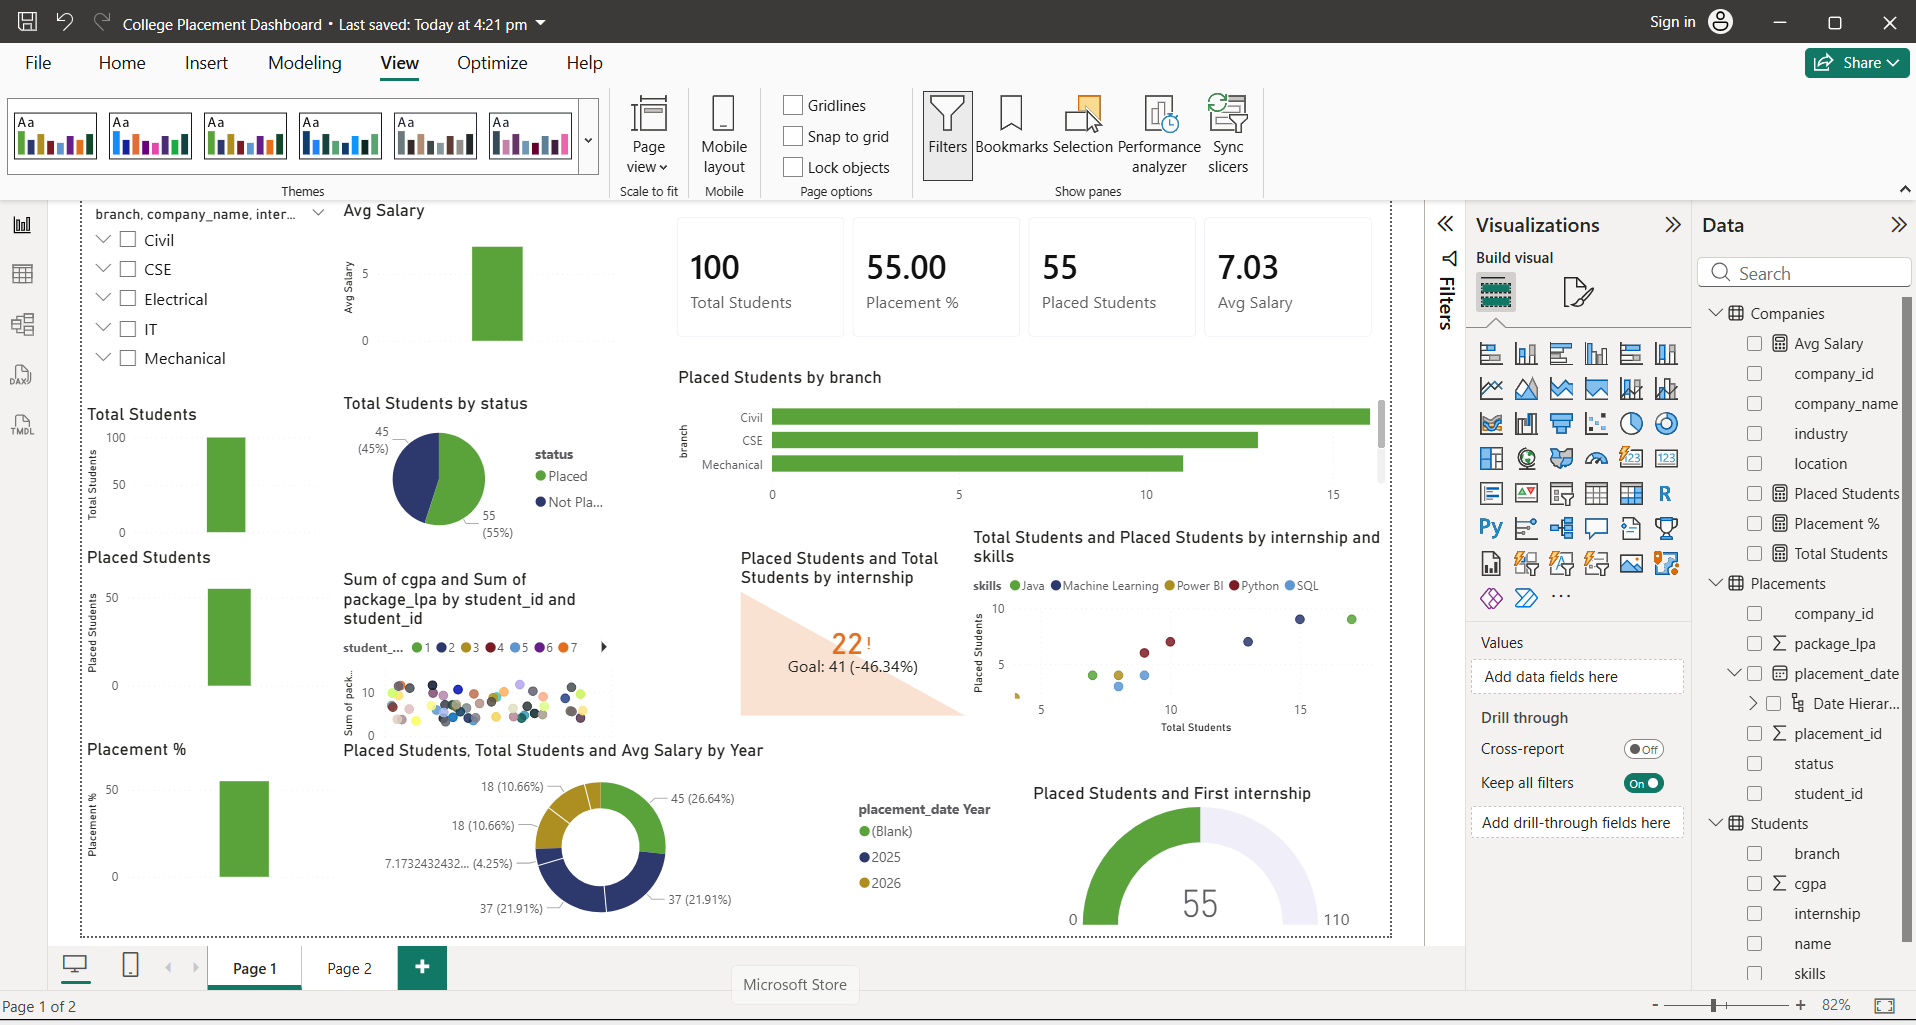

The dashboard page shown, as its layout file describes it:
{"tool":"powerbi","page":{"name":"Page 1","canvas":[1280,720],"ordinal":0},"visuals":[{"type":"columnChart","fields":{"Y":["Companies.Total Students"]},"box":[0,199,236.7,139.9],"z":0},{"type":"clusteredColumnChart","fields":{"Y":["Companies.Placed Students"]},"box":[0,338.9,250.1,150.6],"z":1000},{"type":"clusteredColumnChart","fields":{"Y":["Companies.Placement %"]},"box":[0,527.2,279.7,149.3],"z":2000},{"type":"clusteredColumnChart","fields":{"Y":["Companies.Avg Salary"]},"box":[250.1,0,279.7,152],"z":3000},{"type":"cardVisual","fields":{"Data":["Companies.Total Students","Companies.Placement %","Companies.Placed Students","Companies.Avg Salary"]},"box":[565.2,0,715.2,151.5],"z":4000},{"type":"clusteredBarChart","fields":{"Category":["Students.branch"],"Y":["Companies.Placed Students"]},"box":[578.4,162.9,701.9,143.9],"z":5000},{"type":"pieChart","fields":{"Category":["Placements.status"],"Y":["Companies.Total Students"]},"box":[250.1,188.3,278.4,150.6],"z":6000},{"type":"scatterChart","fields":{"X":["Sum(Students.cgpa)"],"Y":["Sum(Placements.package_lpa)"],"Category":["Students.student_id"],"Series":["Placements.student_id"]},"box":[250.1,360.4,279.7,193.7],"z":7000},{"type":"slicer","fields":{"Values":["Students.branch","Companies.company_name","Students.internship"]},"box":[0,0,250.1,178.9],"z":8000},{"type":"gauge","fields":{"Y":["Companies.Placed Students"]},"box":[925.9,570.2,354.3,149.3],"z":8001},{"type":"donutChart","fields":{"Y":["Companies.Placed Students","Companies.Total Students","Companies.Avg Salary"],"Category":["Placements.placement_date.Variation.Date Hierarchy.Year","Placements.placement_date.Variation.Date Hierarchy.Quarter","Placements.placement_date.Variation.Date Hierarchy.Month","Placements.placement_date.Variation.Date Hierarchy.Day","Placements.status","Students.branch"]},"box":[250.1,528.5,657.6,191],"z":8002},{"type":"kpi","fields":{"Indicator":["Companies.Placed Students"],"Goal":["Companies.Total Students"],"TrendLine":["Students.internship"]},"box":[639.5,339.4,229.4,169.7],"z":8003},{"type":"scatterChart","fields":{"X":["Companies.Total Students"],"Category":["Students.internship"],"Series":["Students.skills"],"Y":["Companies.Placed Students"]},"box":[867.5,319.1,412.7,207.7],"z":8004}]}

Visuals, with their boxes on the page's 1280x720 design canvas (x1, y1, x2, y2). These are canvas units, not pixel positions in the 1916x1025 screenshot, which may show the page scaled, cropped or inside an application window:
columnChart - Companies.Total Students: rect(0, 199, 237, 339)
clusteredColumnChart - Companies.Placed Students: rect(0, 339, 250, 490)
clusteredColumnChart - Companies.Placement %: rect(0, 527, 280, 676)
clusteredColumnChart - Companies.Avg Salary: rect(250, 0, 530, 152)
cardVisual - Companies.Total Students x Companies.Placement %: rect(565, 0, 1280, 152)
clusteredBarChart - Students.branch x Companies.Placed Students: rect(578, 163, 1280, 307)
pieChart - Placements.status x Companies.Total Students: rect(250, 188, 528, 339)
scatterChart - Sum(Students.cgpa) x Sum(Placements.package_lpa): rect(250, 360, 530, 554)
slicer - Students.branch x Companies.company_name: rect(0, 0, 250, 179)
gauge - Companies.Placed Students: rect(926, 570, 1280, 720)
donutChart - Companies.Placed Students x Companies.Total Students: rect(250, 528, 908, 720)
kpi - Companies.Placed Students x Companies.Total Students: rect(640, 339, 869, 509)
scatterChart - Companies.Total Students x Students.internship: rect(868, 319, 1280, 527)
